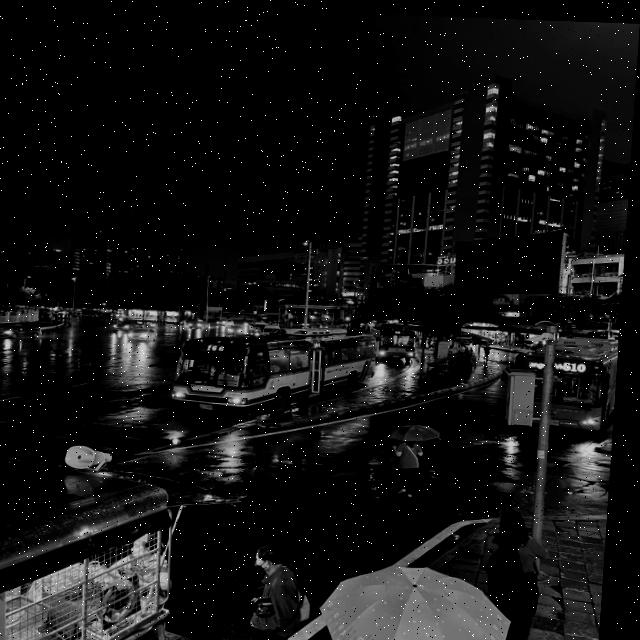BMTA-bus: (174, 322, 384, 413), (509, 324, 624, 431), (371, 321, 424, 360)
Bus-Line-Number: (568, 357, 592, 368), (208, 341, 231, 352), (396, 327, 409, 331)
Destination-Sign-Normal: (566, 392, 599, 400), (407, 341, 416, 344)
Destination-Sign-Normal-Expressway: (222, 371, 245, 385)
